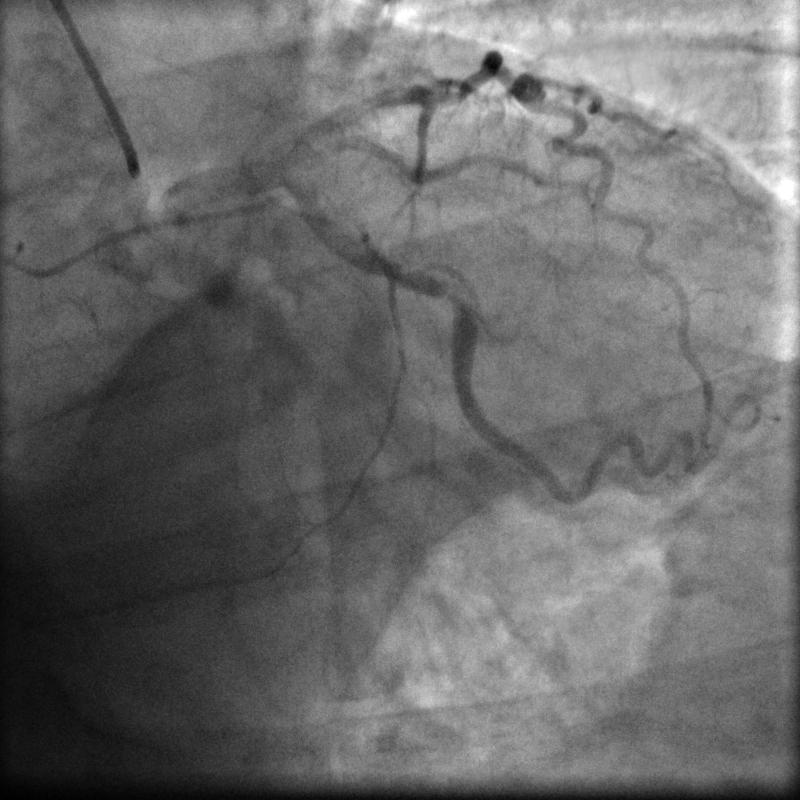Stenosis: (421, 271, 478, 317)
